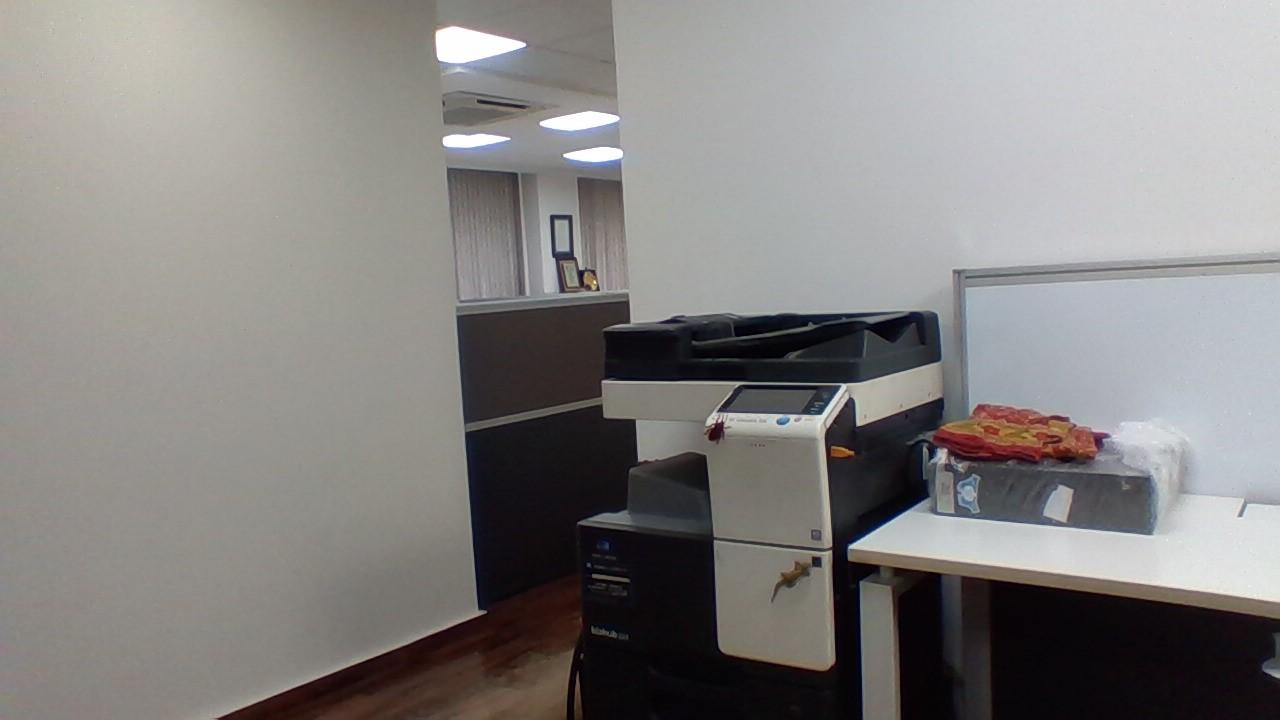cockroach: (705, 407, 736, 454)
lizard: (759, 545, 822, 608)
